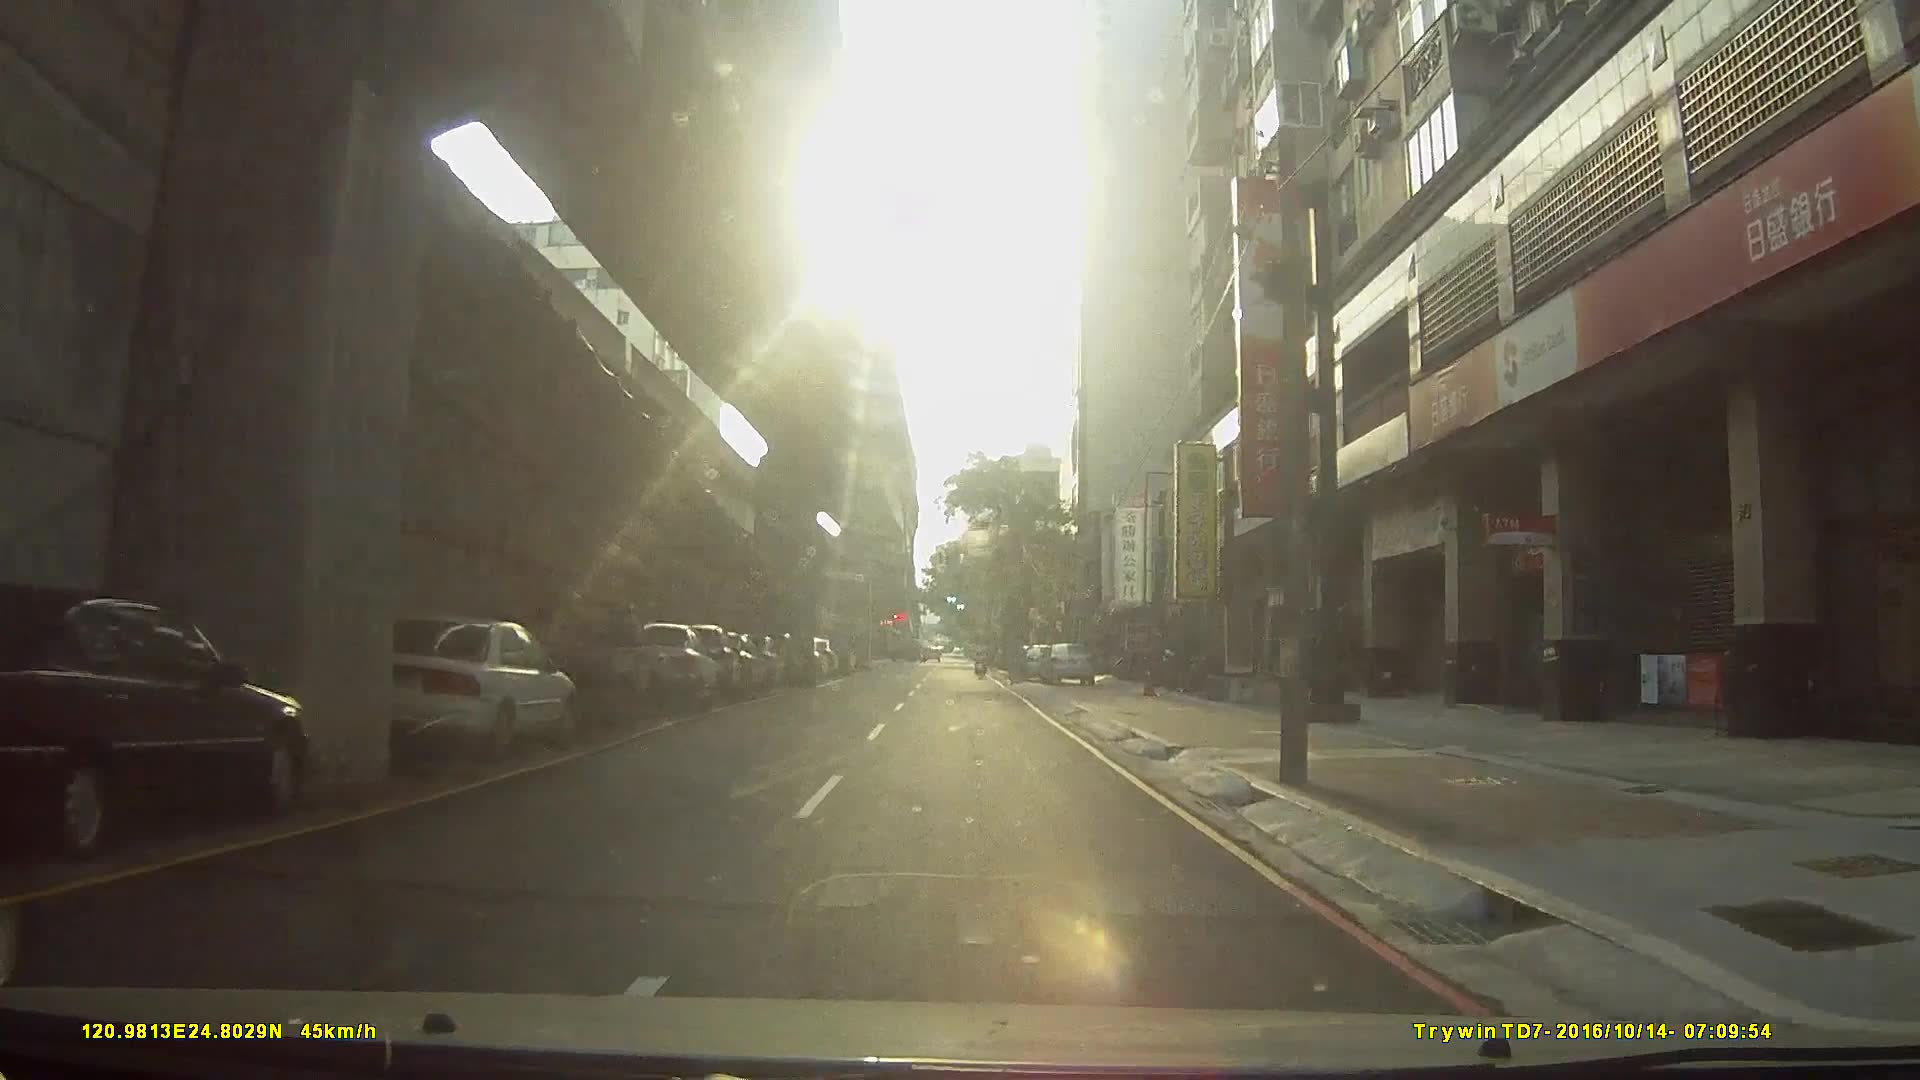vehicle: (0, 582, 309, 865), (349, 608, 572, 761), (485, 596, 657, 720), (604, 620, 723, 712), (659, 620, 794, 670), (1035, 640, 1095, 687)
